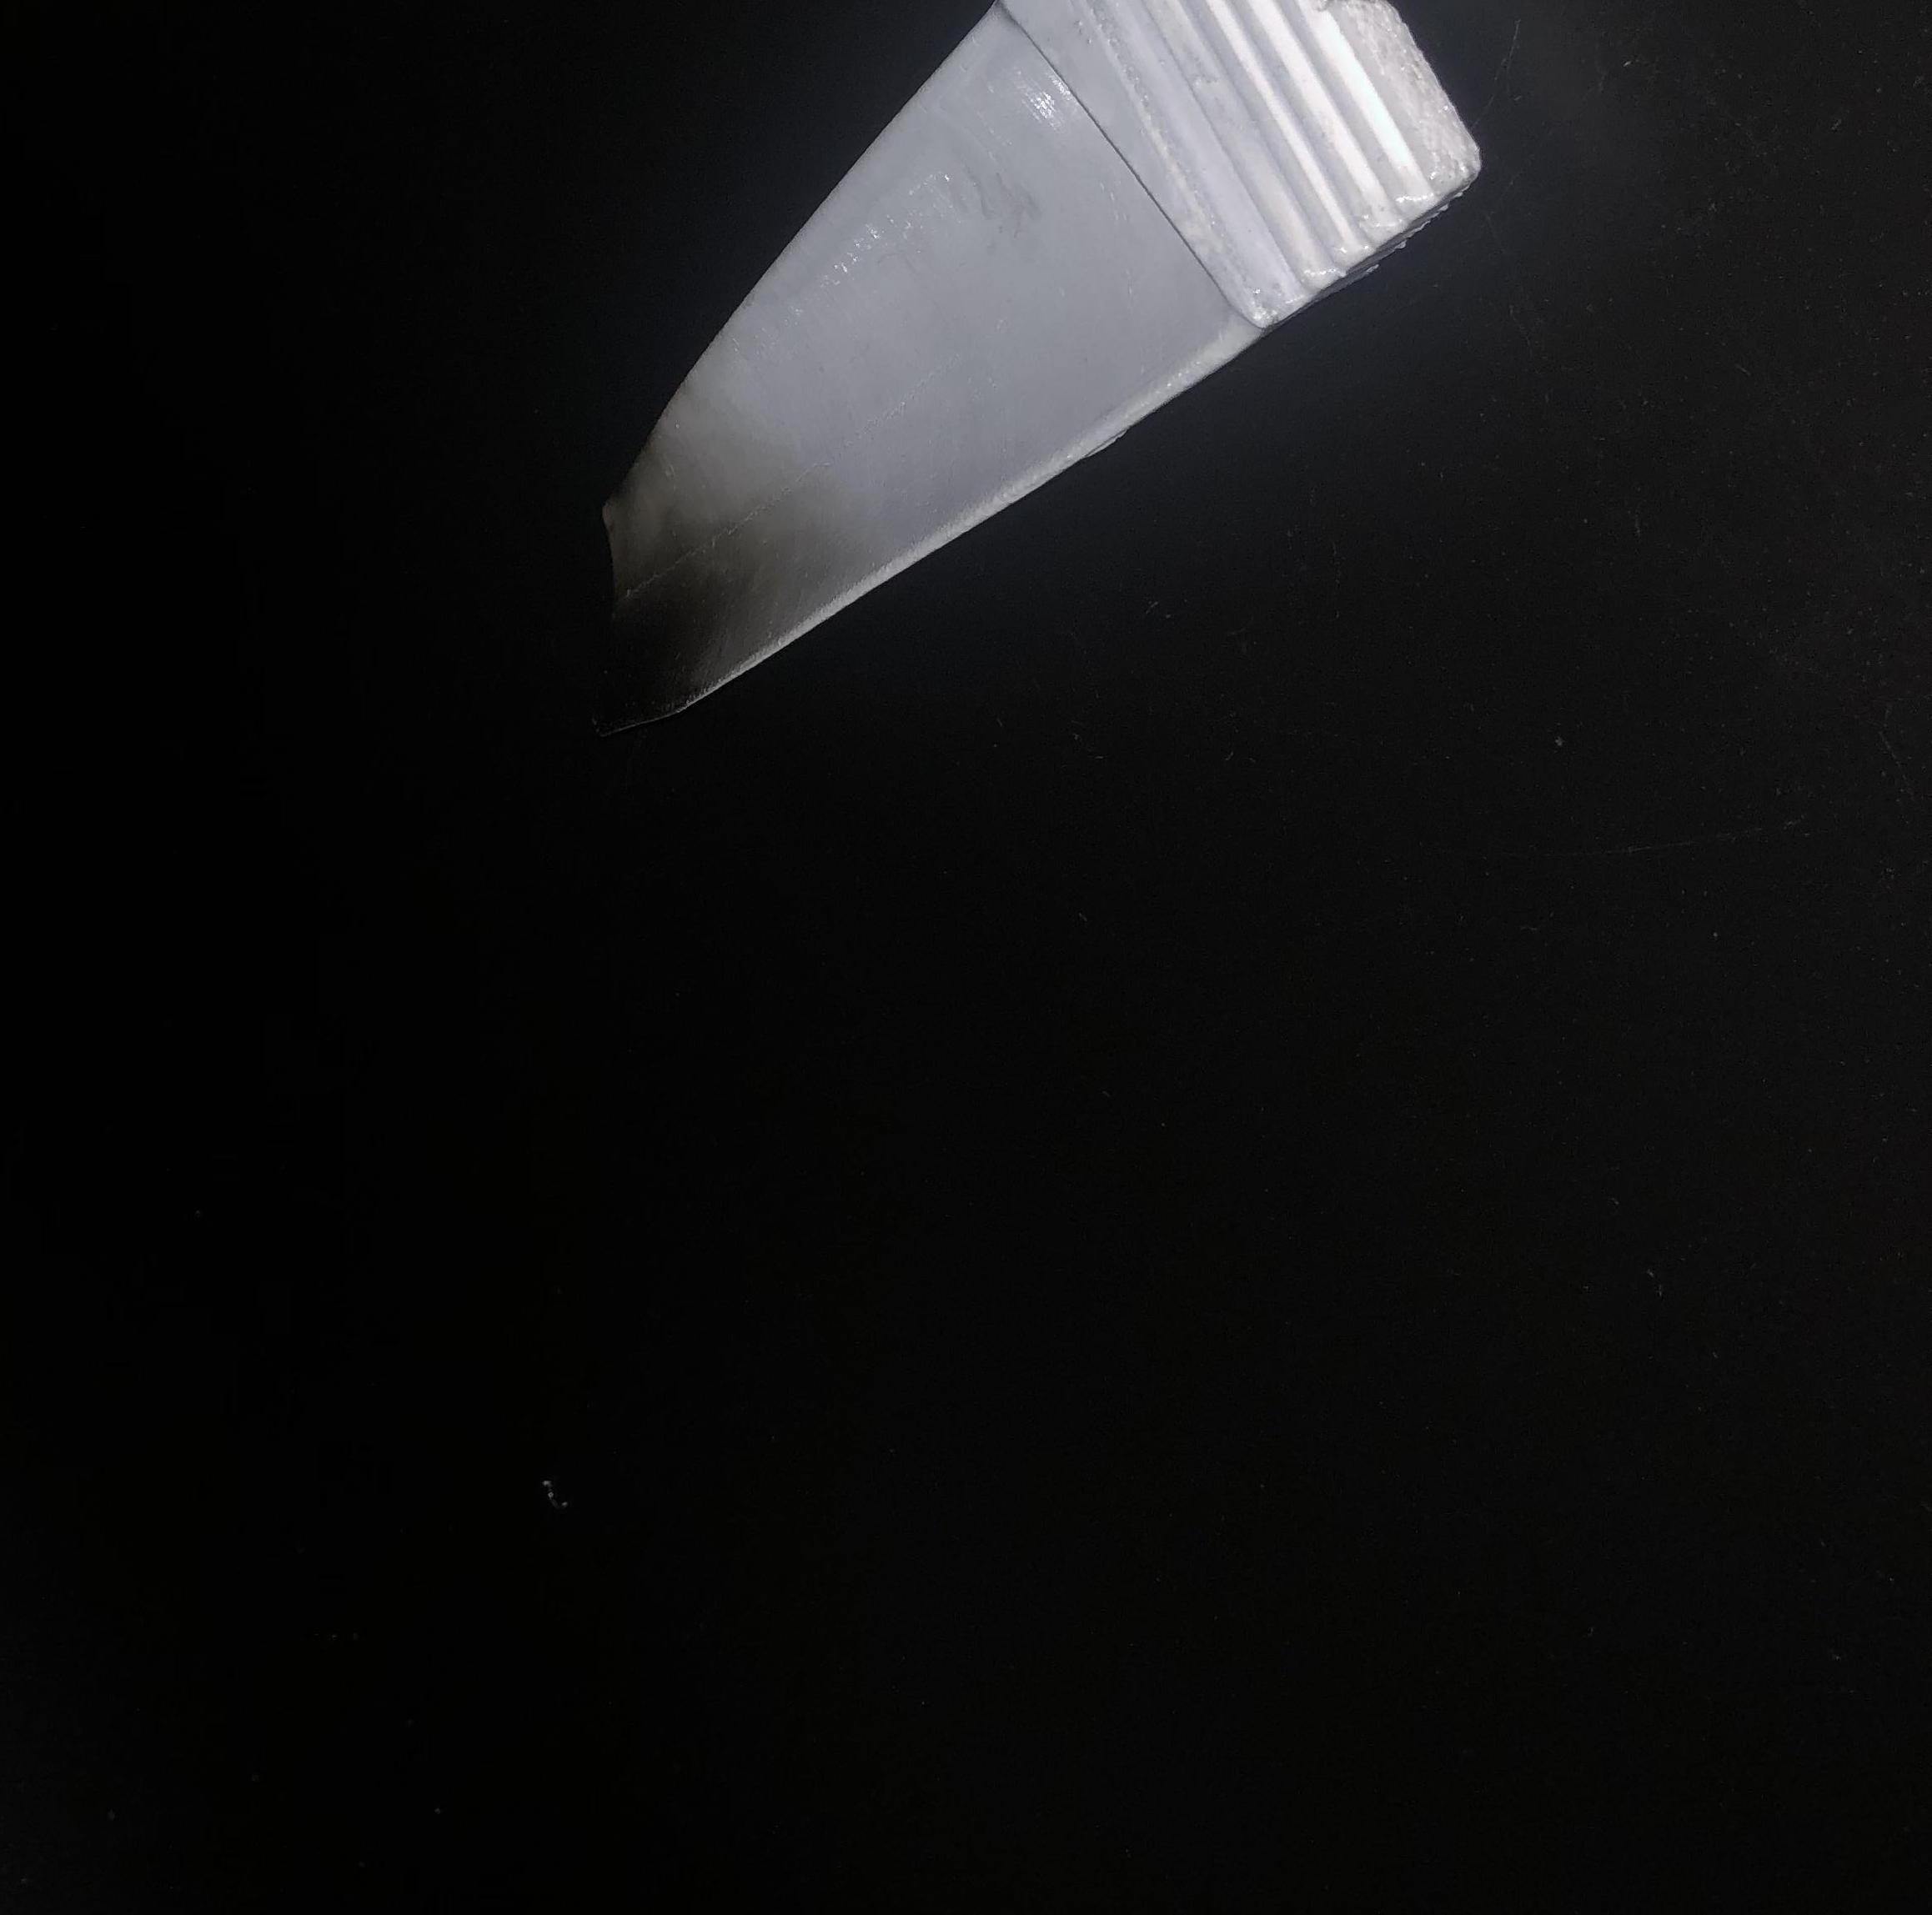ablation: (608, 509, 747, 691)
